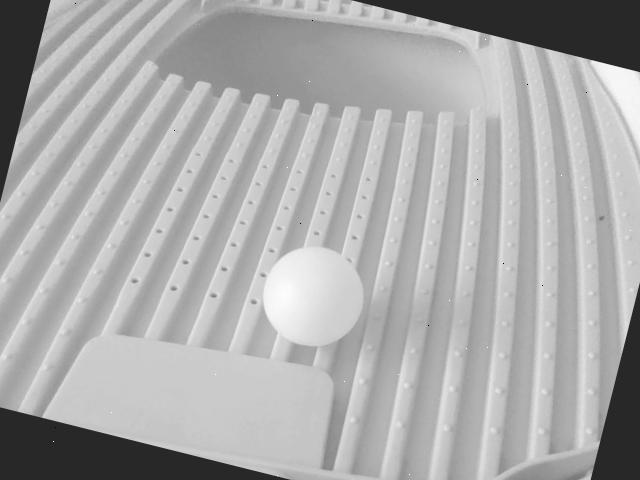ball: (251, 233, 374, 358)
